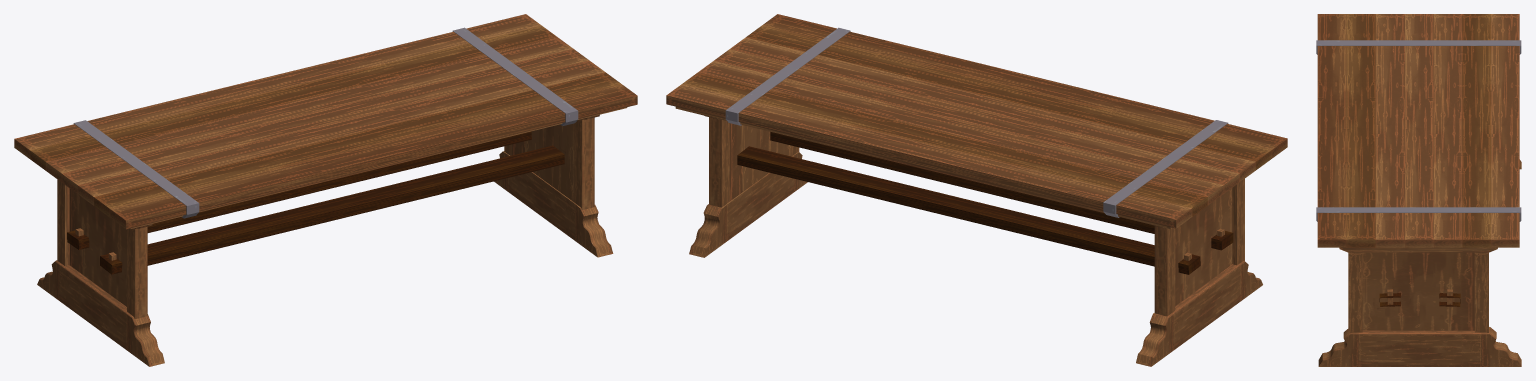
File: table_large.glb
3 views of the same model, side by side, from view 1: azimuth 30°, elevation 25°; view 2: azimuth 150°, elevation 25°; view 3: azimuth 270°, elevation 25° (orthographic). The views are drawn at different scales.
Visible parts, largest first — view 1: Table_Large; view 2: Table_Large; view 3: Table_Large.
Boxes of the visible parts, left/top/right/bottom form: Table_Large: left=14, top=14, right=637, bottom=366; Table_Large: left=666, top=14, right=1287, bottom=366; Table_Large: left=1316, top=14, right=1521, bottom=366.
Size of the model in its own units: 2.85 by 0.8134 by 1.1.
2 materials, 2 textured.
